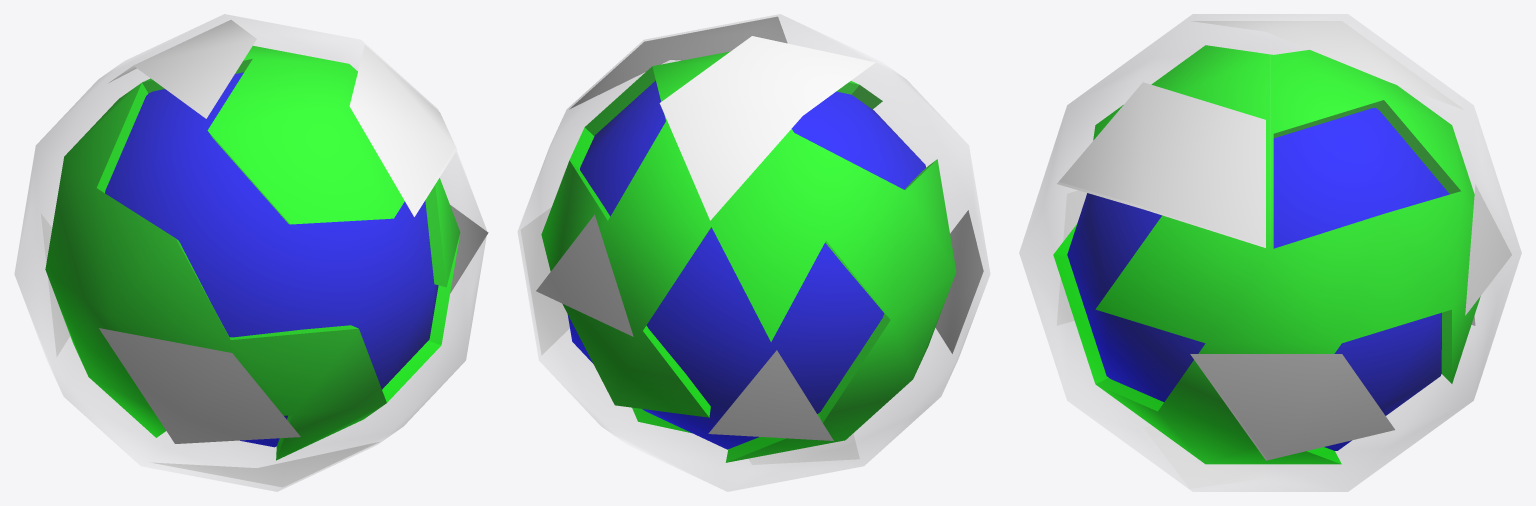
The model's file is Eearth.fbx.
The picture shows the model from 3 angles, left to right: view 1: azimuth 30°, elevation 25°; view 2: azimuth 150°, elevation 25°; view 3: azimuth 270°, elevation 25°; orthographic projection. The views are drawn at different scales.
Parts seen in each view (by area): view 1: air, Land, Water, Gurum; view 2: air, Land, Gurum, Water; view 3: air, Land, Gurum, Water.
Boxes of the visible parts, bbox=[...] form: air: bbox=[14, 14, 486, 491]; Land: bbox=[45, 46, 460, 460]; Water: bbox=[105, 72, 438, 447]; Gurum: bbox=[40, 20, 488, 487]; air: bbox=[517, 14, 990, 491]; Land: bbox=[541, 51, 956, 462]; Gurum: bbox=[520, 16, 983, 464]; Water: bbox=[567, 80, 925, 449]; air: bbox=[1019, 14, 1521, 491]; Land: bbox=[1053, 45, 1480, 464]; Gurum: bbox=[1056, 21, 1511, 488]; Water: bbox=[1067, 107, 1449, 450].
Bounding box in the file's own units: 86.74 × 91.2 × 91.2.
